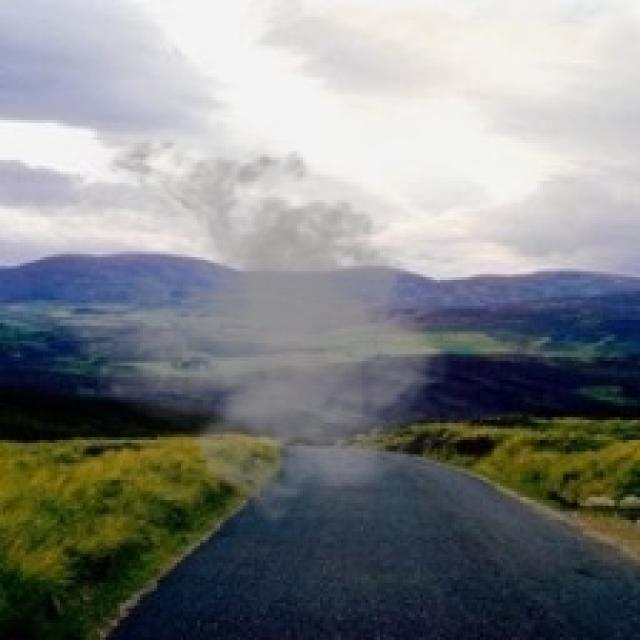smoke: (37, 125, 463, 526)
